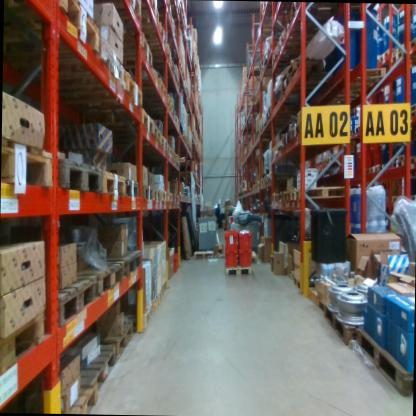pallet: (86, 245, 215, 360), (5, 0, 120, 69), (352, 319, 413, 400), (1, 133, 63, 204), (41, 66, 151, 106), (66, 342, 117, 403), (45, 272, 98, 325), (56, 153, 105, 204), (271, 35, 336, 72), (336, 56, 389, 97), (274, 21, 336, 56), (323, 303, 371, 348), (284, 63, 340, 100), (83, 255, 123, 302), (281, 59, 331, 94), (316, 128, 360, 167), (95, 32, 126, 87), (281, 3, 334, 35), (115, 25, 156, 62), (290, 121, 341, 144), (291, 183, 346, 204), (135, 87, 175, 115), (99, 163, 129, 200), (109, 243, 143, 275), (63, 384, 97, 414), (116, 1, 146, 33), (139, 18, 170, 48), (258, 113, 304, 131), (267, 146, 319, 161), (221, 259, 255, 281), (144, 71, 167, 100), (141, 107, 156, 148), (150, 45, 173, 70), (244, 87, 270, 108), (266, 171, 293, 188), (125, 171, 140, 201), (372, 47, 390, 71), (292, 275, 308, 300), (139, 179, 155, 203), (264, 37, 278, 63), (384, 40, 407, 55), (364, 161, 381, 181), (404, 30, 416, 56), (266, 102, 280, 123), (385, 51, 403, 67), (166, 61, 180, 81), (161, 130, 172, 154), (256, 51, 268, 73), (282, 185, 293, 208), (389, 191, 407, 205), (150, 181, 160, 205), (155, 118, 163, 147), (390, 151, 412, 161), (389, 160, 407, 172), (281, 132, 292, 151), (166, 137, 174, 162), (267, 189, 278, 207), (402, 109, 416, 122), (247, 246, 257, 264), (165, 188, 175, 206), (158, 183, 165, 204), (408, 152, 416, 169), (328, 154, 341, 164), (259, 65, 268, 79), (404, 102, 416, 112), (278, 190, 285, 205), (176, 155, 182, 172), (257, 175, 263, 190), (381, 163, 391, 172), (322, 154, 328, 168), (380, 196, 390, 204), (172, 148, 176, 163), (264, 174, 268, 187)
small_load_carrier: (236, 247, 253, 269), (238, 227, 254, 249), (225, 227, 238, 251), (225, 249, 237, 269)
